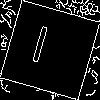I: (25, 25, 52, 73)
